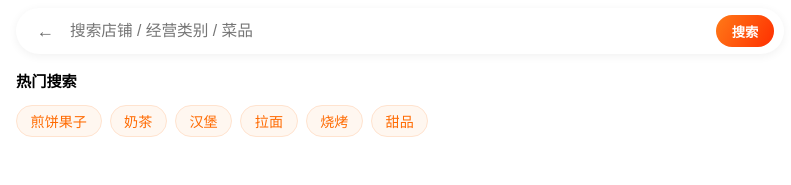
Test: 按经营类别和商品名称搜索店铺 › 后端搜索失败时仅按店铺名降级并明确提示能力范围
The width and height of the screenshot is (791, 185).
Type "北洋" into the search field with test id "search-input" at coordinates (388, 31), box 68,21 -> 708,41
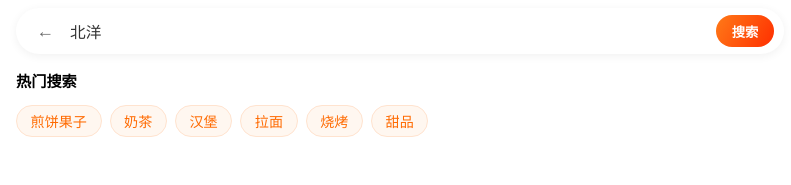
Click the button with test id "search-submit" at coordinates (745, 31), box 716,15 -> 774,47
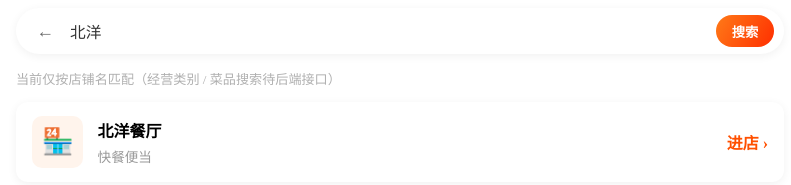
Now the text with test id "search-local-note" shows "仅按店铺名", box 16,72 -> 341,86
Now the list item with test id "search-result-7" shows "北洋餐厅", box 98,123 -> 162,140
